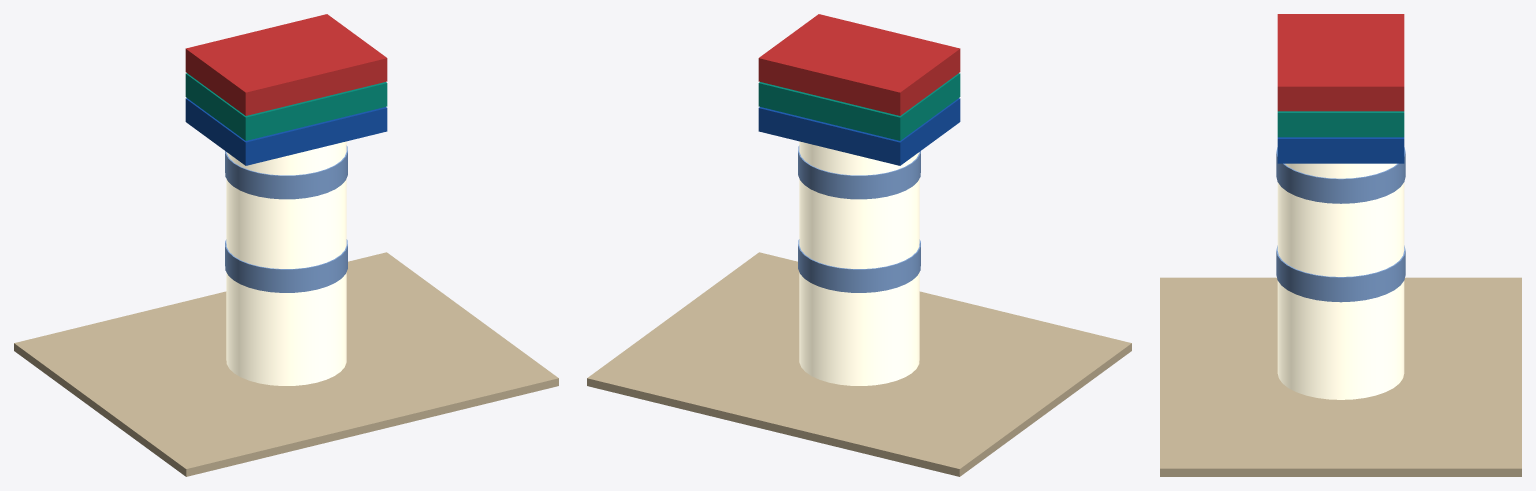
Rendered from tower.glb.
3 renders of one model, left to right at view 1: azimuth 30°, elevation 25°; view 2: azimuth 150°, elevation 25°; view 3: azimuth 270°, elevation 25°, orthographic. The views are drawn at different scales.
Visible parts, largest first — view 1: table, tower, book2, book0, book1, tape, tape2; view 2: table, tower, book2, book0, book1, tape, tape2; view 3: table, tower, book2, book0, book1, tape, tape2.
Boxes of the visible parts, x1=… form: table: x1=14, y1=252, x2=558, y2=476; tower: x1=226, y1=141, x2=346, y2=385; book2: x1=185, y1=14, x2=387, y2=115; book0: x1=185, y1=98, x2=387, y2=165; book1: x1=185, y1=73, x2=387, y2=140; tape: x1=225, y1=239, x2=347, y2=292; tape2: x1=225, y1=145, x2=347, y2=199; table: x1=587, y1=252, x2=1131, y2=476; tower: x1=799, y1=141, x2=919, y2=385; book2: x1=758, y1=14, x2=960, y2=115; book0: x1=758, y1=98, x2=960, y2=165; book1: x1=758, y1=73, x2=960, y2=140; tape: x1=798, y1=239, x2=920, y2=292; tape2: x1=798, y1=145, x2=920, y2=199; table: x1=1160, y1=277, x2=1521, y2=476; tower: x1=1277, y1=163, x2=1404, y2=399; book2: x1=1277, y1=14, x2=1404, y2=111; book0: x1=1277, y1=137, x2=1404, y2=163; book1: x1=1277, y1=111, x2=1404, y2=137; tape: x1=1276, y1=245, x2=1405, y2=302; tape2: x1=1276, y1=147, x2=1405, y2=203.
Bounding box in the file's own units: 0.5 × 0.404 × 0.4.
